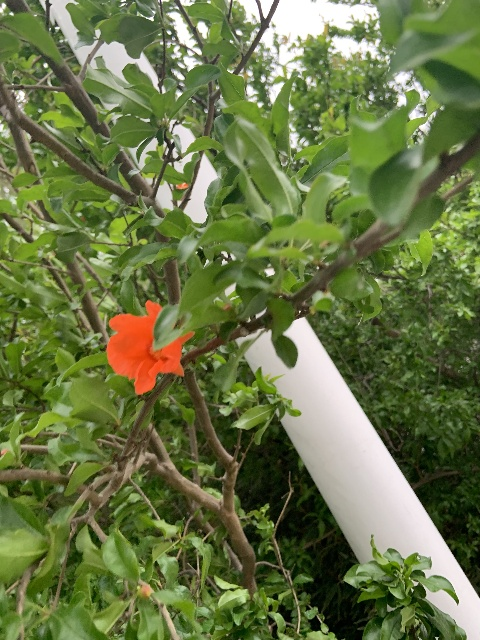flower: (106, 299, 194, 394)
